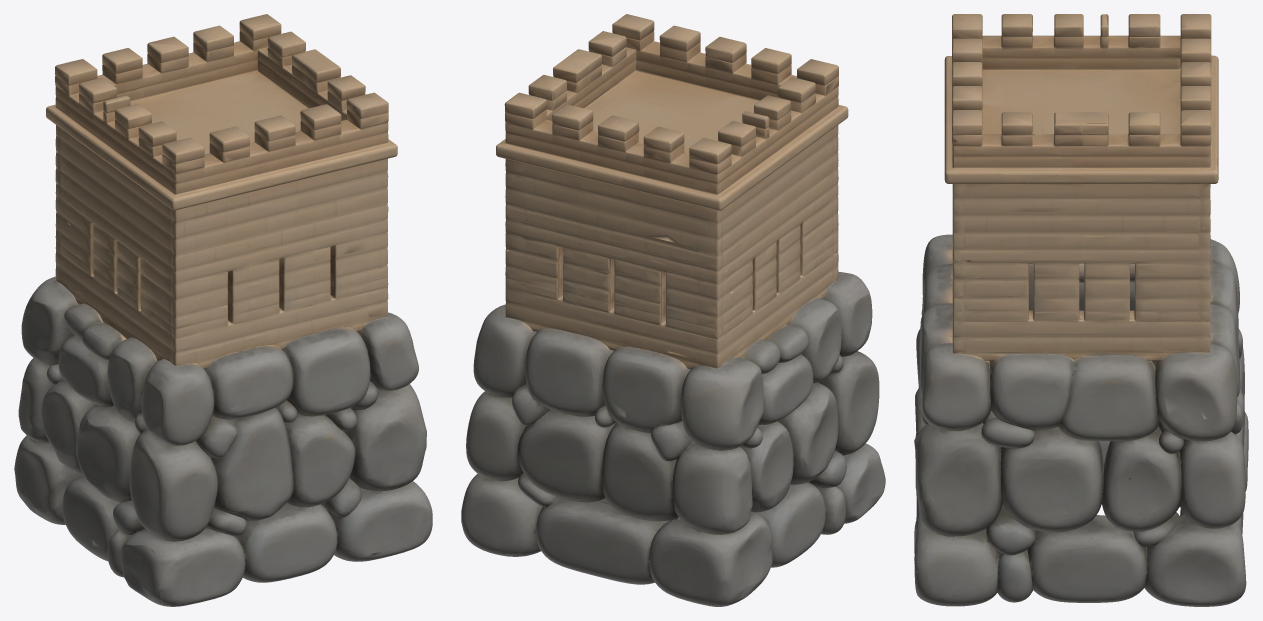
File: The_Cyclopean_Tower_Block_opt.glb
3 views of the same model, side by side, from view 1: azimuth 30°, elevation 25°; view 2: azimuth 150°, elevation 25°; view 3: azimuth 270°, elevation 25° (orthographic). The views are drawn at different scales.
Visible parts, largest first — view 1: material; view 2: material; view 3: material.
Boxes of the visible parts, x1,y1,x2,y2 form: material: (14,14,432,606); material: (461,14,885,606); material: (914,14,1248,606).
Bounding box in the file's own units: 0.6165 × 0.9332 × 0.5958.
1 material, 1 textured.
